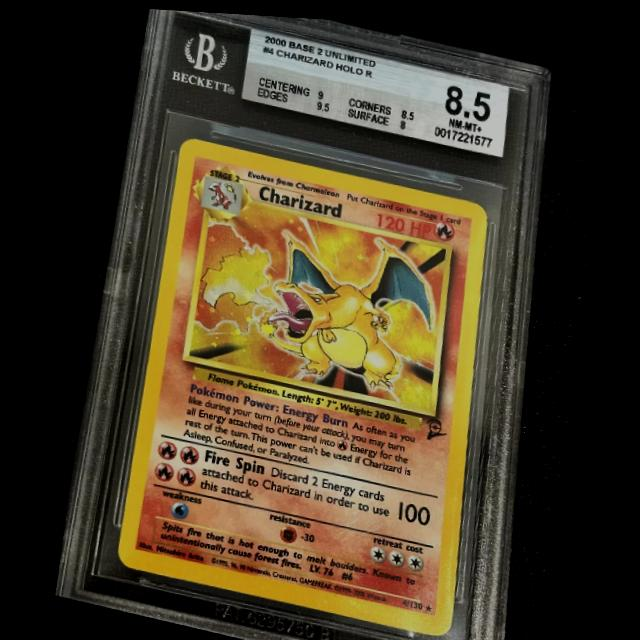bgs_label: (241, 23, 510, 152)
bgs_slab: (49, 7, 552, 640)
card: (109, 133, 487, 634)
